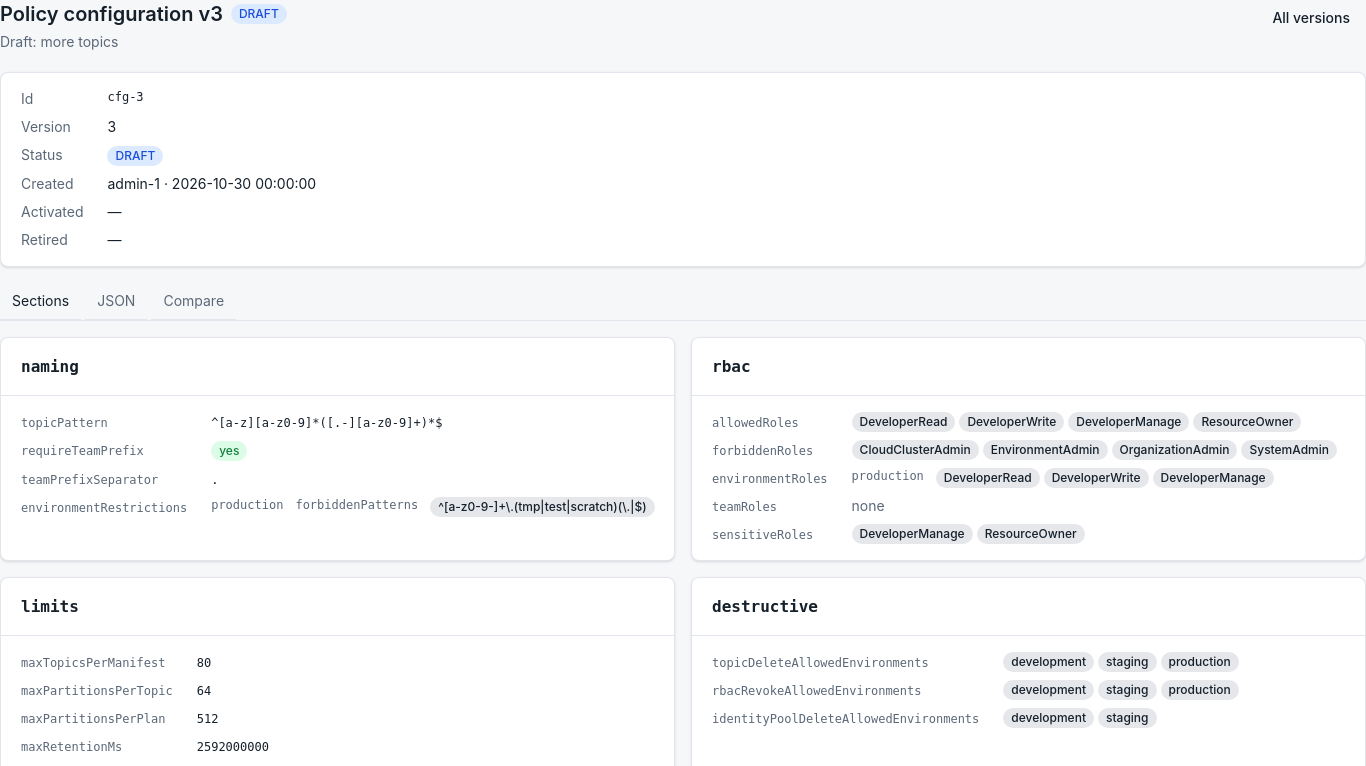
Test: PolicyConfigDetailPage › shows metadata, sections and a comparison against another version
Expected: the text "Policy configuration v3" is shown, x1=0 y1=0 x2=287 y2=28
Expected: the text "maxTopicsPerManifest" is shown, x1=21 y1=656 x2=166 y2=670
What coordinates should you click on to do the following:
click the tab "Compare"
I would click on:
 (194, 302)
Its box is x1=151 y1=283 x2=236 y2=321.
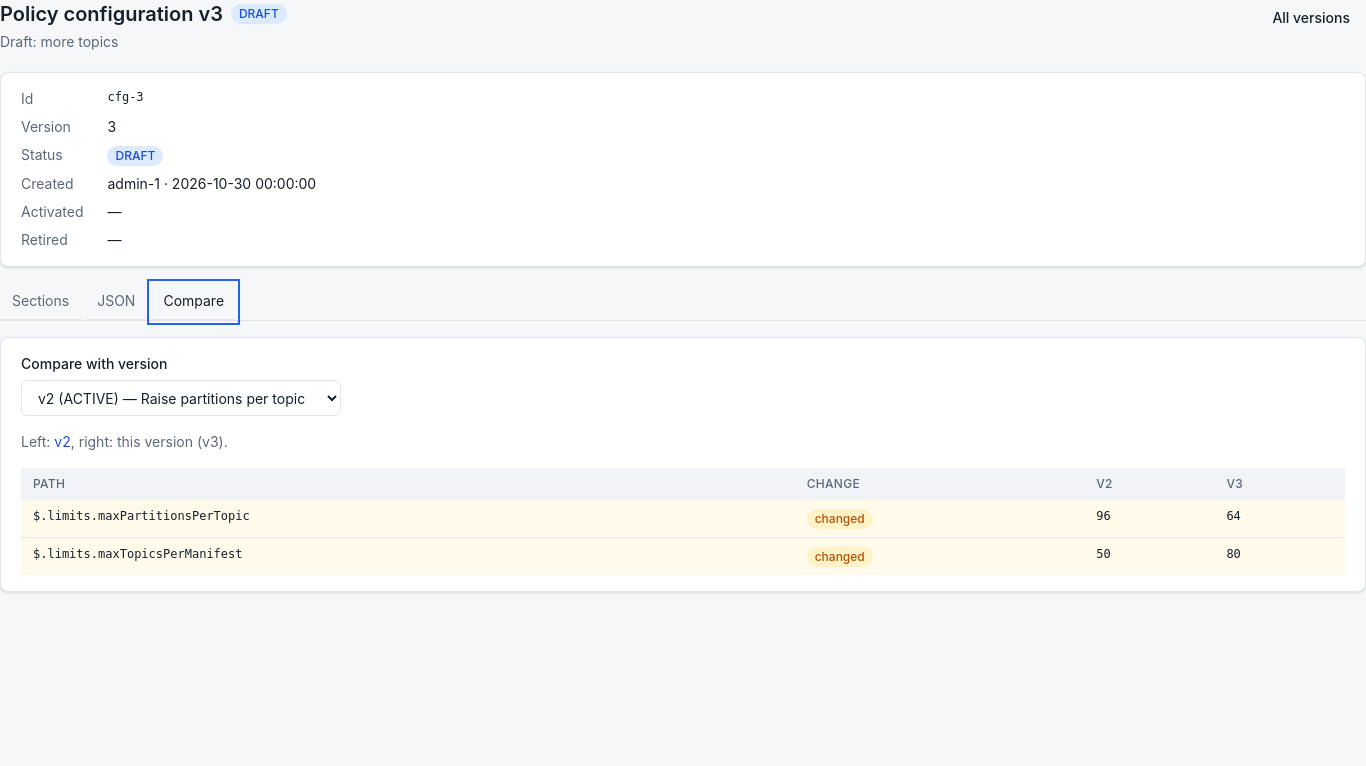
Result: the text "$.limits.maxTopicsPerManifest" is shown at x1=21 y1=538 x2=795 y2=575
